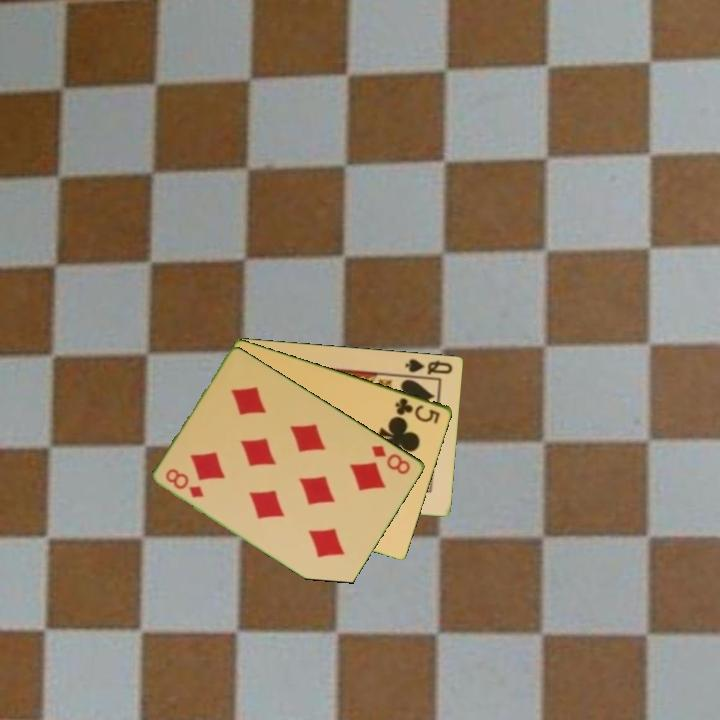5c: (391, 394, 443, 426)
8d: (162, 465, 207, 501), (368, 442, 414, 477)
Qs: (402, 355, 455, 377)
